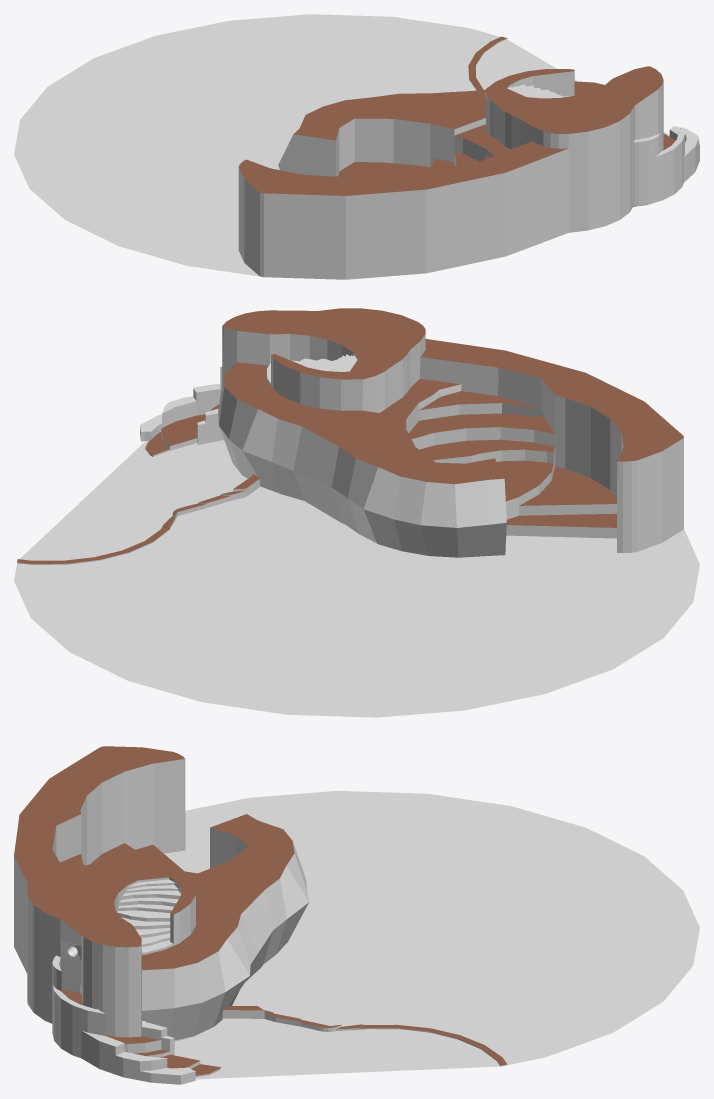
3 renders of one model, top to bottom at view 1: azimuth 30°, elevation 25°; view 2: azimuth 150°, elevation 25°; view 3: azimuth 270°, elevation 25°, orthographic. The views are drawn at different scales.
Visible parts, largest first — view 1: Island 1; view 2: Island 1; view 3: Island 1.
Boxes of the visible parts, bbox=[...] form: Island 1: bbox=[14, 14, 699, 279]; Island 1: bbox=[14, 308, 699, 717]; Island 1: bbox=[14, 746, 699, 1084].
Size of the model in its own units: 925 by 166 by 912.
